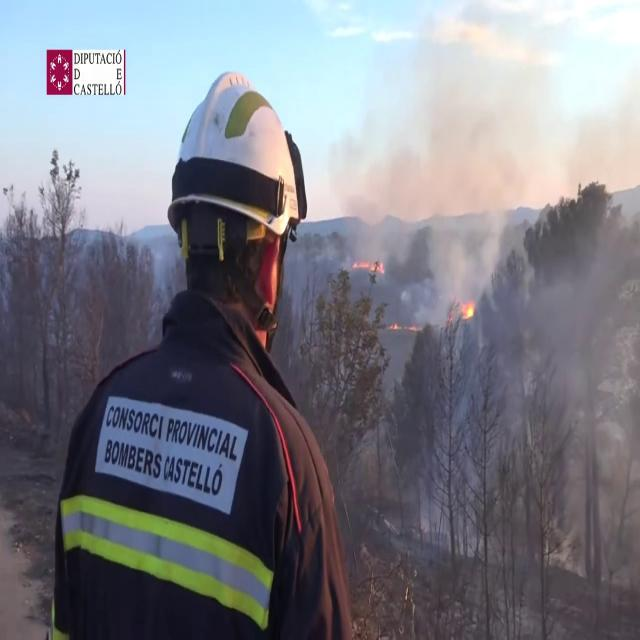Fire: (458, 292, 478, 326)
Smoke: (330, 34, 640, 556)
